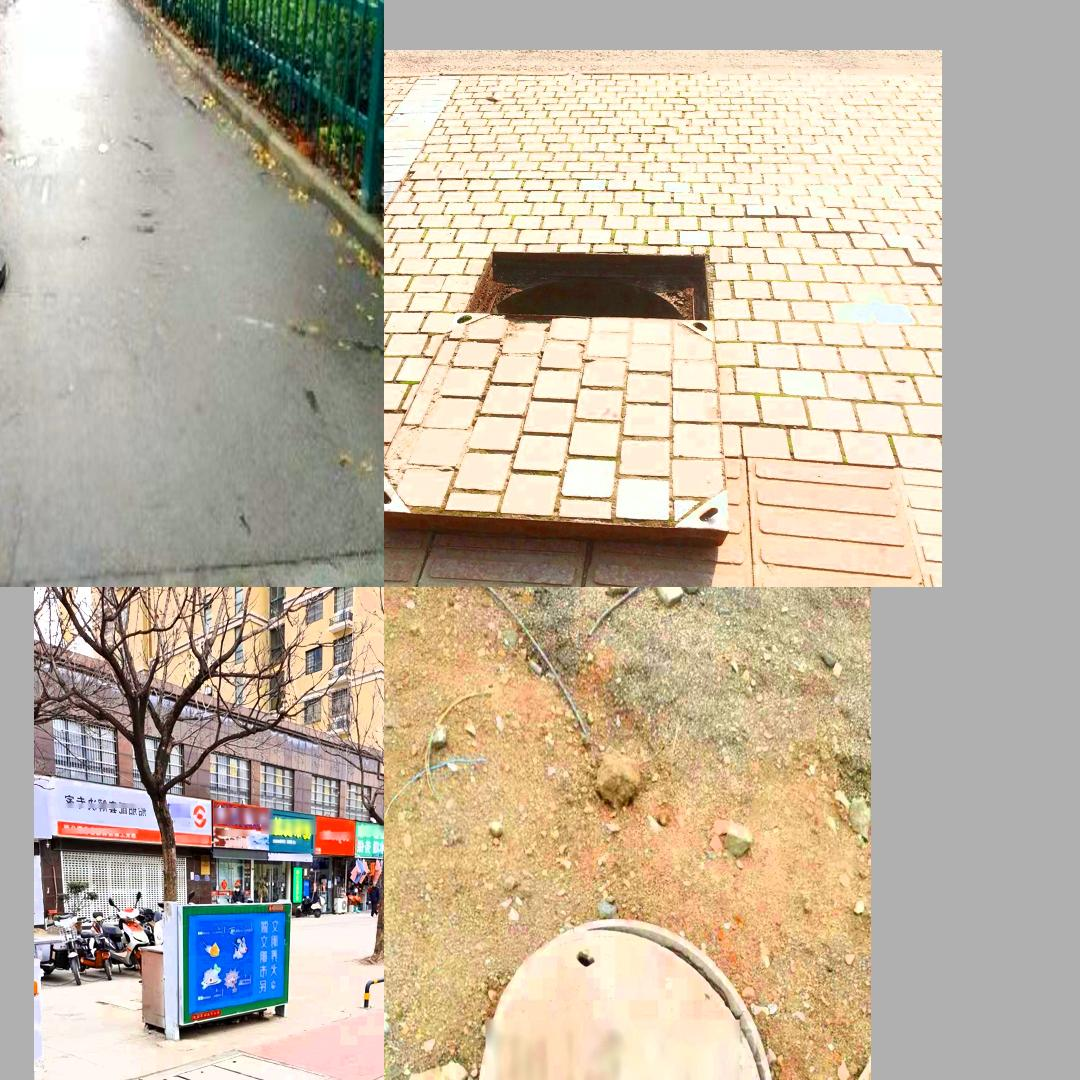uncovered: (389, 248, 731, 541), (477, 918, 777, 1080), (134, 1051, 330, 1080), (0, 237, 8, 327)
